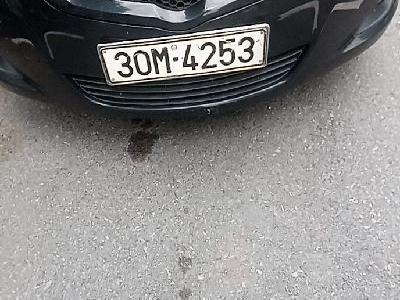number: (100, 21, 268, 85)
